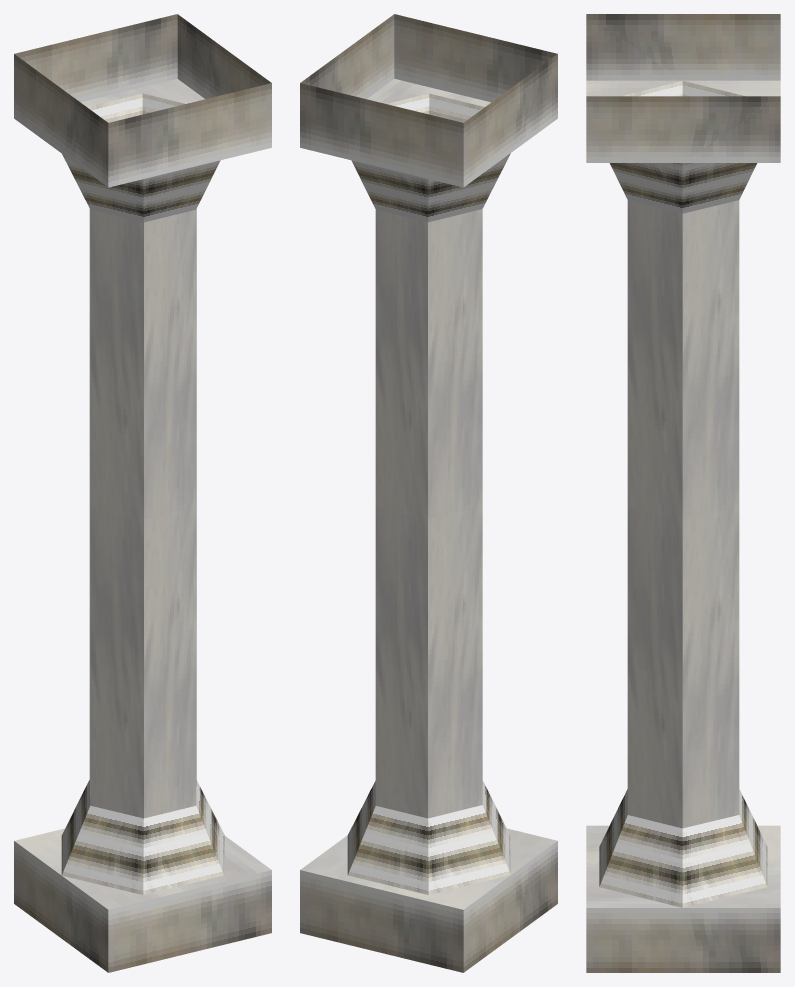
3 renders of one model, left to right at view 1: azimuth 30°, elevation 25°; view 2: azimuth 150°, elevation 25°; view 3: azimuth 270°, elevation 25°, orthographic. The views are drawn at different scales.
Parts seen in each view (by area): view 1: prim249-pillar; view 2: prim249-pillar; view 3: prim249-pillar.
Part boxes in pixels (bbox=[...]): prim249-pillar: bbox=[14, 14, 271, 972]; prim249-pillar: bbox=[300, 14, 557, 972]; prim249-pillar: bbox=[586, 14, 780, 972].
Bounding box in the file's own units: 103 × 512 × 103.
1 material, 1 textured.
